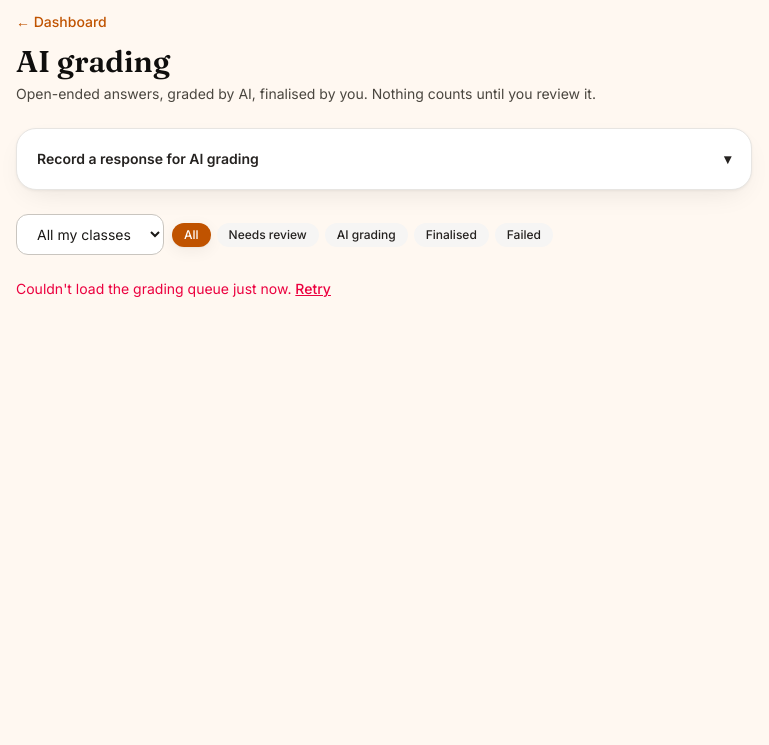
Test: OpenResponseGradingPage › shows an error with retry — not the empty state — when the queue fetch fails
This screenshot has width=769, height=745.
Expected: the text "Couldn't load the grading queue just now. Retry" is shown, x1=16 y1=279 x2=331 y2=299
Click the button "Retry" at (313,289), box x1=295 y1=279 x2=331 y2=299
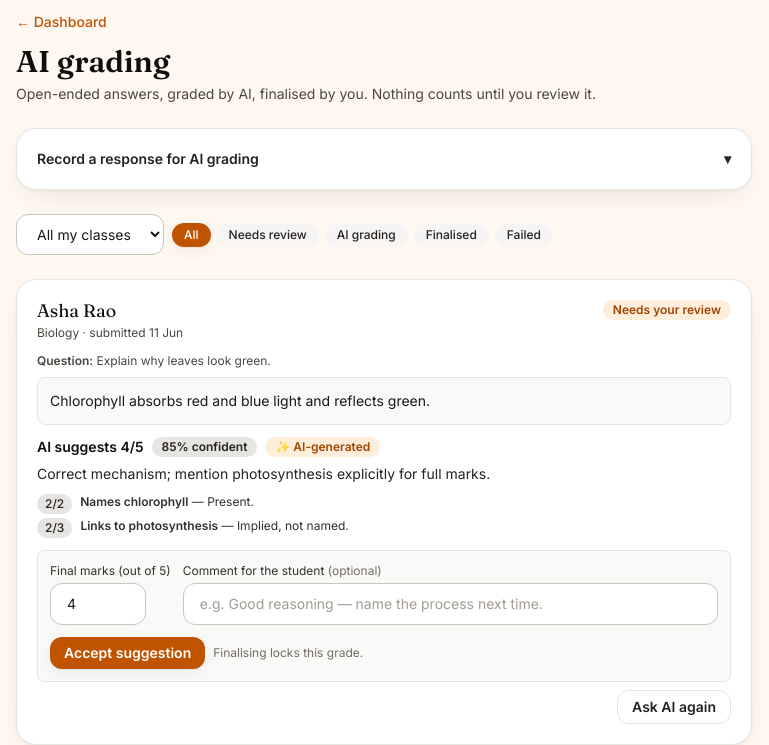
Expected: the text "Asha Rao" is shown, x1=37 y1=299 x2=116 y2=322
